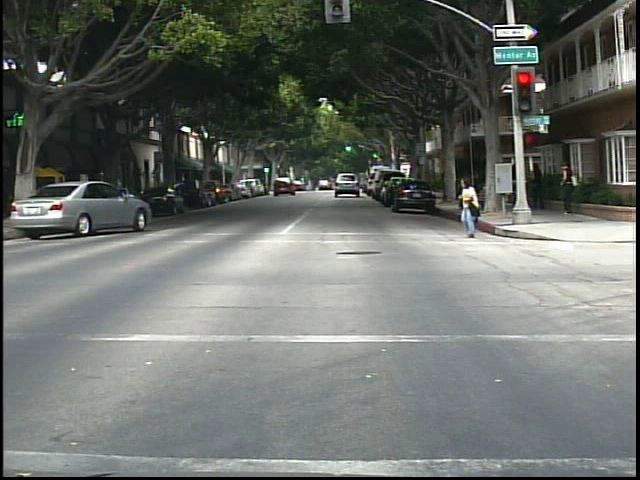person: (453, 175, 488, 243), (556, 156, 584, 217), (529, 158, 552, 216)
